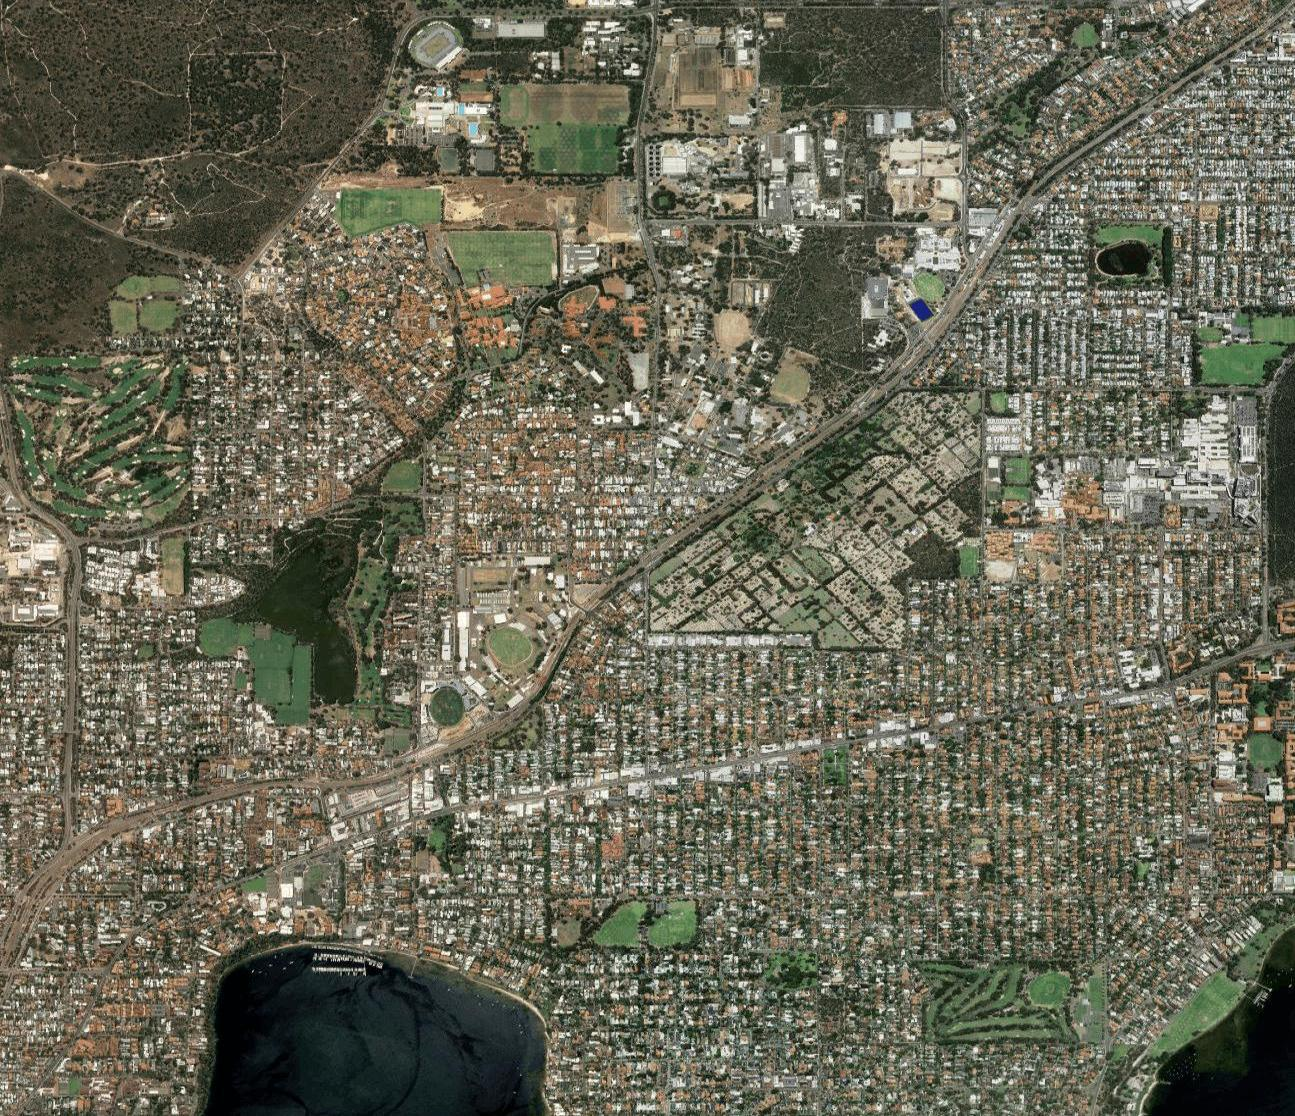train_station: (633, 543, 663, 576)
